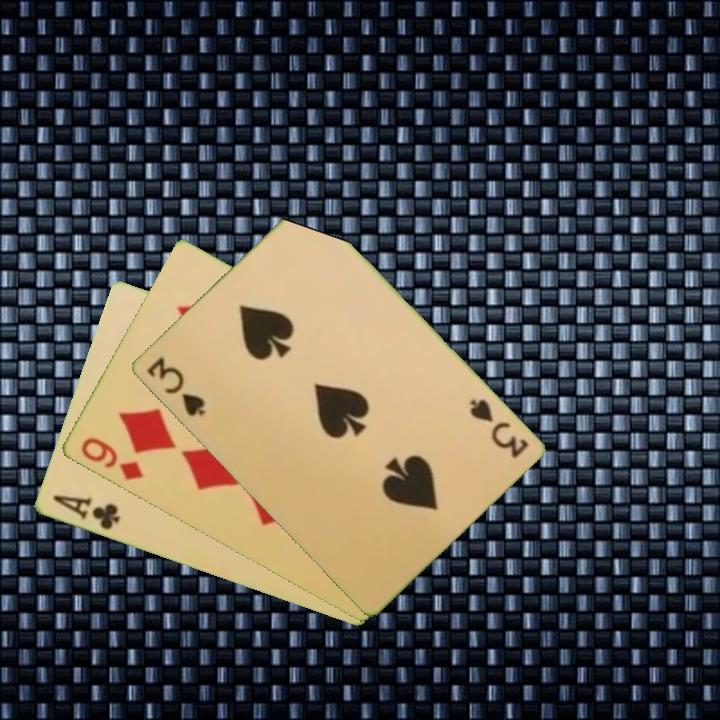3s: (142, 353, 208, 420), (465, 395, 531, 462)
9d: (77, 434, 146, 484)
Ac: (48, 491, 123, 533)
